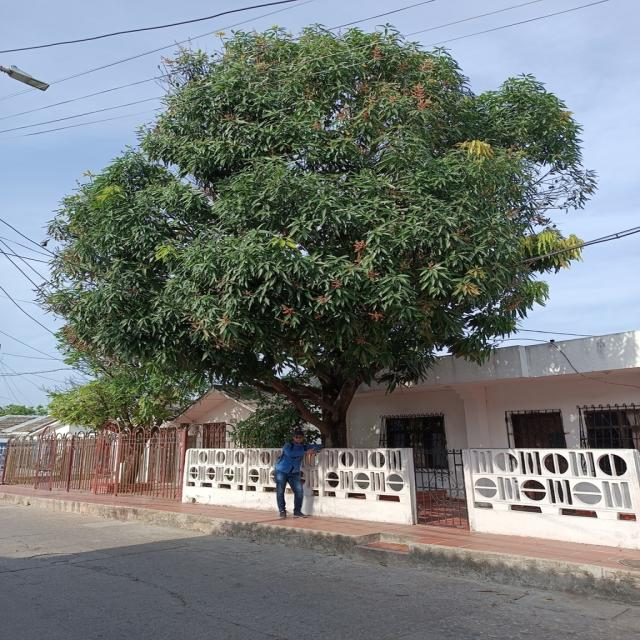Mango-Tree: (79, 32, 558, 444)
